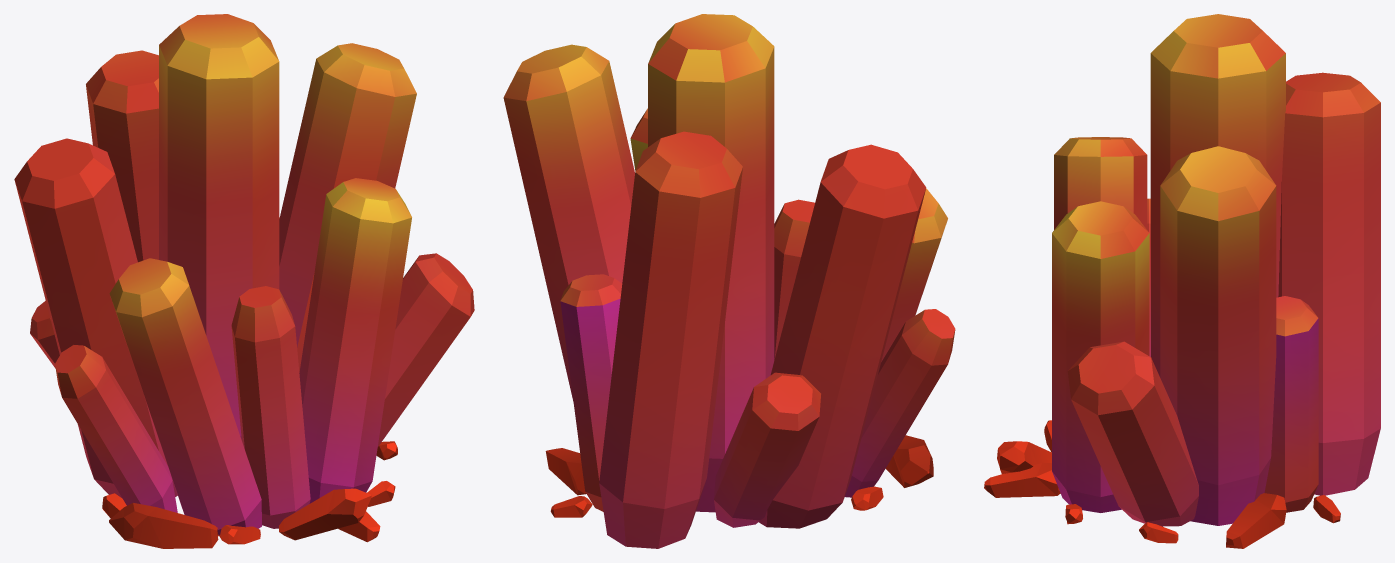
Rendered from mesh_adamantine.fbx.
3 renders of one model, left to right at view 1: azimuth 30°, elevation 25°; view 2: azimuth 150°, elevation 25°; view 3: azimuth 270°, elevation 25°, orthographic. The views are drawn at different scales.
Parts seen in each view (by area): view 1: resource_adamantine; view 2: resource_adamantine; view 3: resource_adamantine.
Boxes of the visible parts, <box> form: resource_adamantine: <box>14,14,474,548</box>; resource_adamantine: <box>503,14,955,548</box>; resource_adamantine: <box>984,14,1380,548</box>.
Size of the model in its own units: 3.05 by 3.25 by 2.61.
